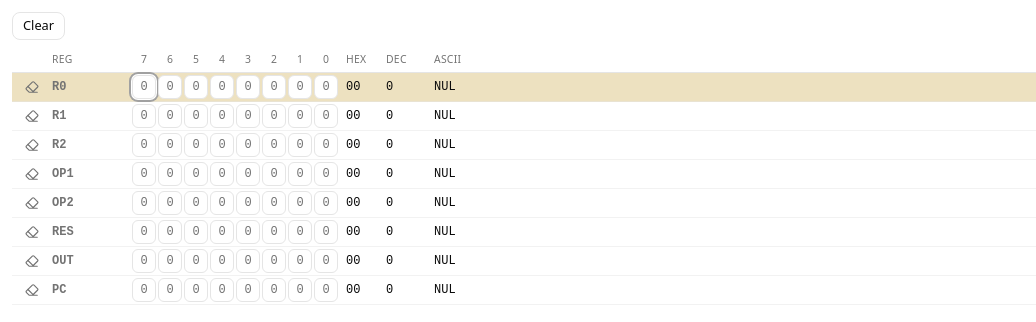
RegisterGrid › double-click flips a register bit
The width and height of the screenshot is (1036, 322).
Double-click the cell named "Register PC, bit 7, value 0" at coordinates (326, 290), box [314,278,338,302]
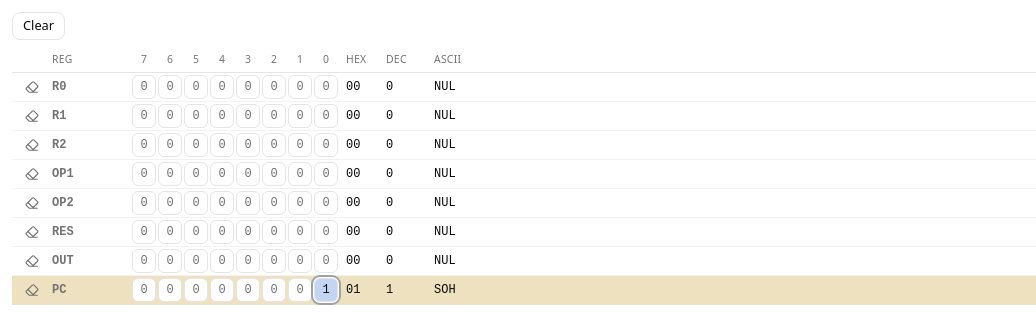
Now the cell named "Register PC, bit 7, value 1" is shown, box [314,278,338,302]
